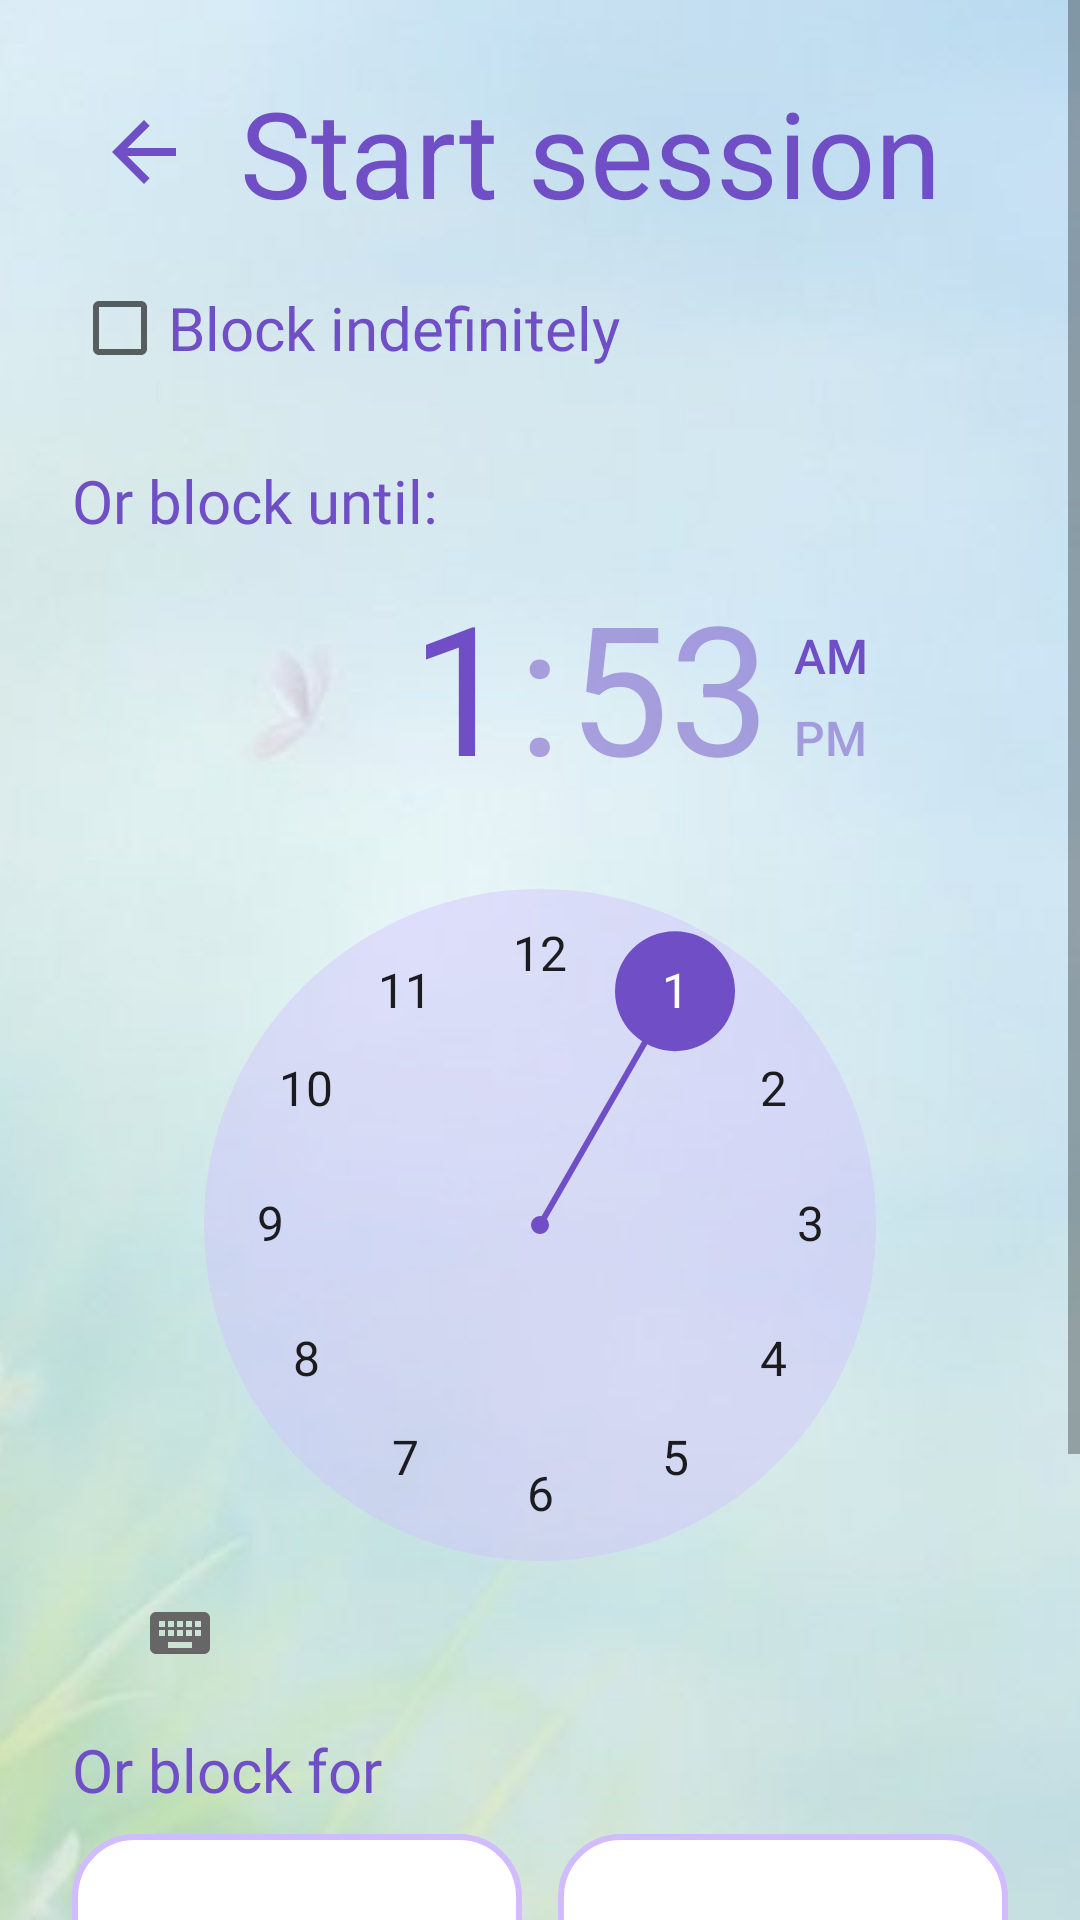

Named icons in this screenshot (1080w x 1920h) and their centers, [x,y]:
Back: [144,152]
